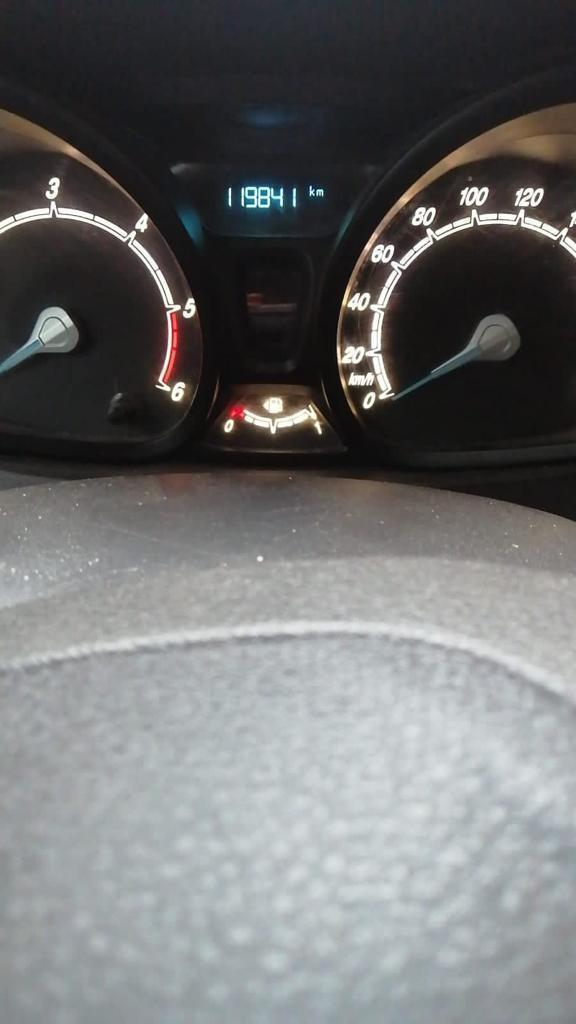1: (291, 186, 298, 212), (226, 184, 232, 212), (239, 184, 244, 212)
4: (270, 185, 284, 208)
8: (258, 185, 270, 209)
9: (245, 185, 257, 209)
X: (308, 183, 315, 198), (315, 187, 324, 197)
odometer: (211, 176, 336, 230)
